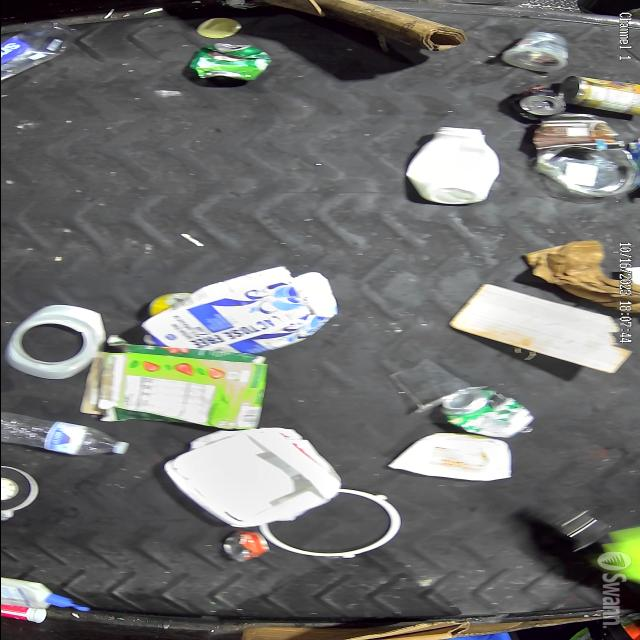can: (442, 386, 536, 440), (565, 75, 640, 116), (201, 41, 273, 77), (226, 535, 270, 561)
plastic_bottle: (7, 414, 130, 456)
